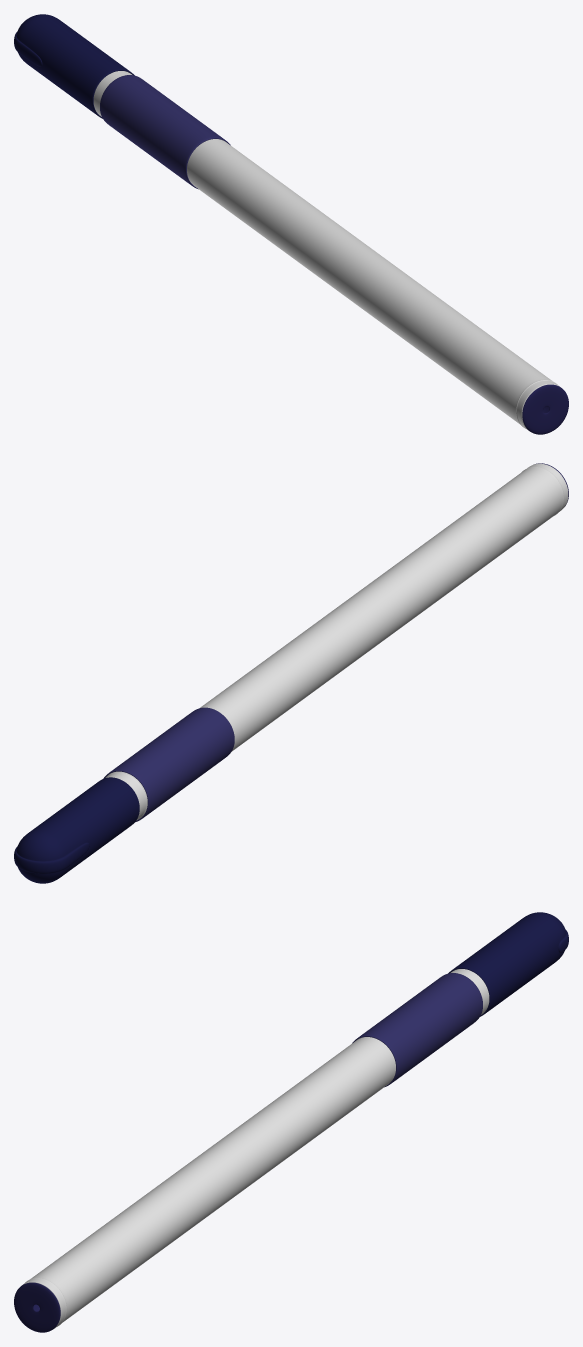
Rendered from uploads_files_2667658_Pen.fbx.
3 views of the same model, one above another, from view 1: azimuth 30°, elevation 25°; view 2: azimuth 150°, elevation 25°; view 3: azimuth 330°, elevation 25° (orthographic).
Parts seen in each view (by area): view 1: Pen, Cap; view 2: Pen, Cap; view 3: Pen, Cap.
Boxes of the visible parts, left/top/right/bottom form: Pen: left=93, top=71, right=568, bottom=434; Cap: left=14, top=14, right=134, bottom=118; Pen: left=103, top=463, right=568, bottom=822; Cap: left=14, top=777, right=139, bottom=883; Pen: left=14, top=969, right=489, bottom=1332; Cap: left=448, top=912, right=568, bottom=1016.
Bounding box in the file's own units: 13.4 × 13.14 × 240.
